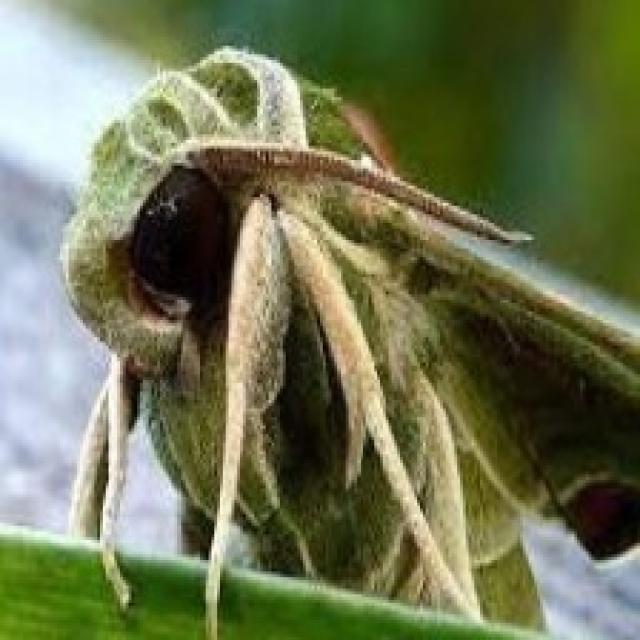butterfly: (54, 43, 637, 637)
